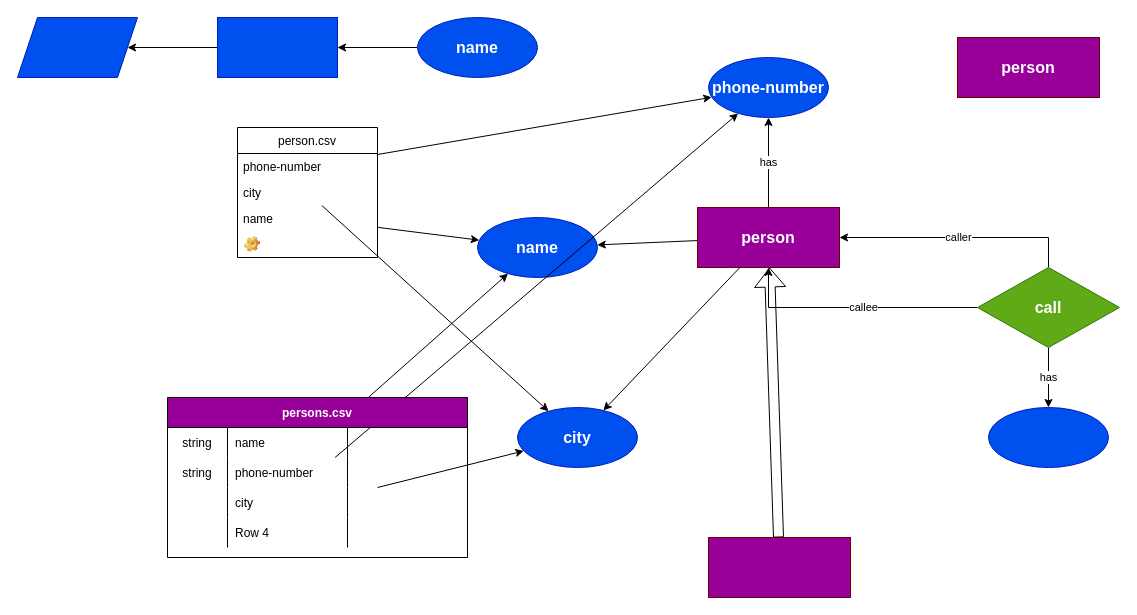
Some shapes in this 1137 by 615 pixel diagram are drawn without their labels. Each missing label, with the centre of its shape:
"duration" goes at [1048,437].
"employee" goes at [779,567].
"item: attribute" goes at [307,244].
